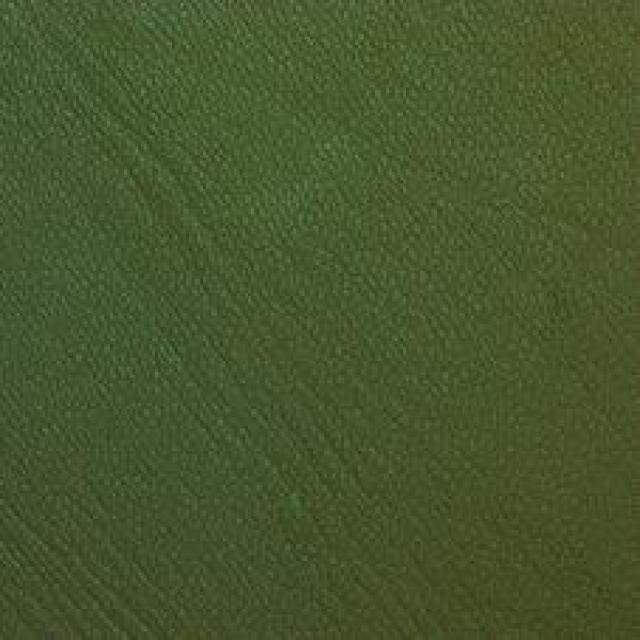Growth Marks: (62, 62, 289, 295), (17, 459, 203, 619)
